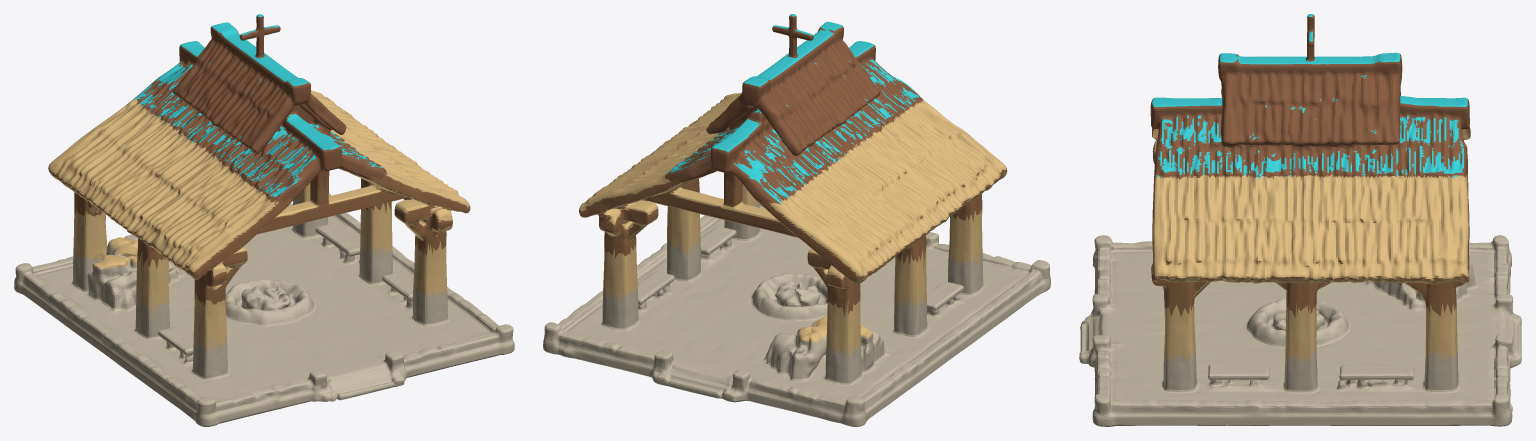
Rendered from stage1.glb.
3 views of the same model, side by side, from view 1: azimuth 30°, elevation 25°; view 2: azimuth 150°, elevation 25°; view 3: azimuth 270°, elevation 25° (orthographic). The views are drawn at different scales.
Parts seen in each view (by area): view 1: world; view 2: world; view 3: world.
Boxes of the visible parts, box(x1,y1,x2,y2) form: world: box(14, 14, 514, 426); world: box(543, 14, 1050, 426); world: box(1079, 14, 1521, 426).
Bounding box in the file's own units: 1.75 × 1.61 × 1.96.
